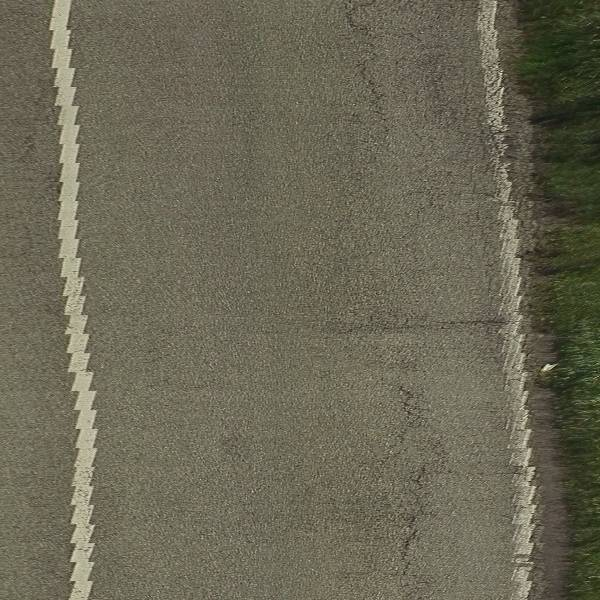road_damage: (394, 365, 451, 594), (343, 1, 401, 138)
